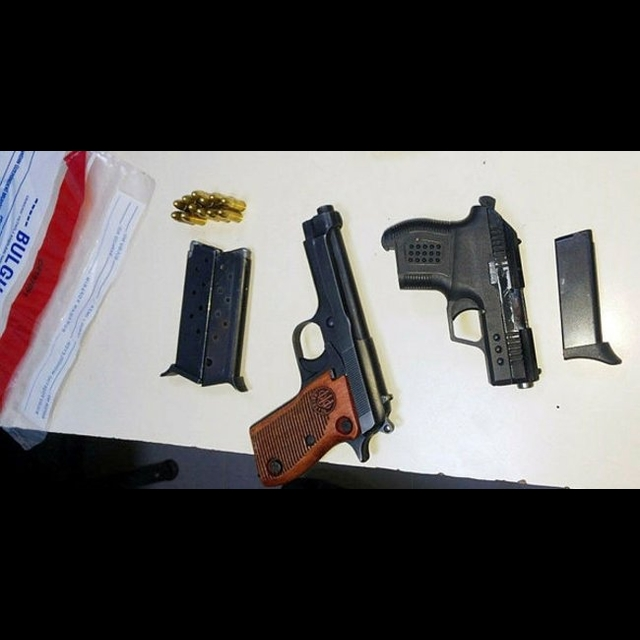SILAH: (242, 205, 396, 488), (374, 191, 543, 392)
